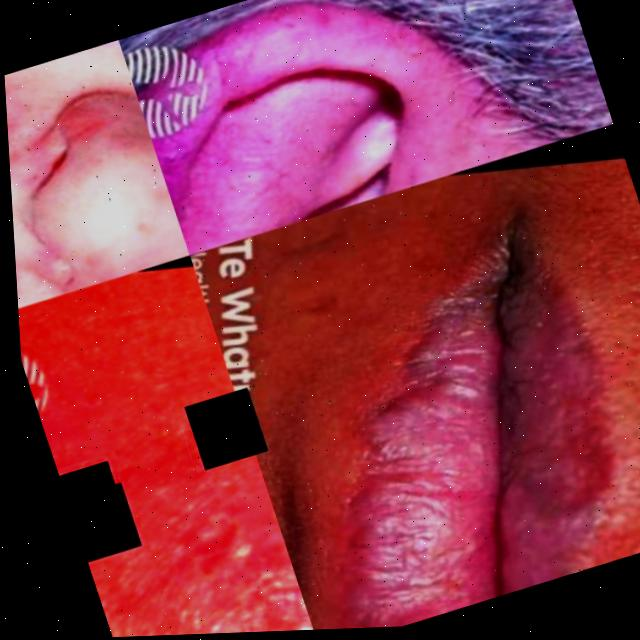lupus-detected: (182, 123, 640, 634), (40, 368, 319, 639), (117, 0, 319, 257), (4, 61, 191, 296), (3, 37, 164, 227)
